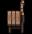Obstacle: (3, 0, 30, 34)
